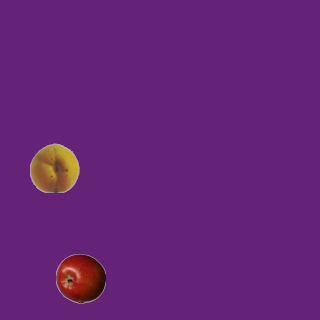Apple Braeburn: (55, 253, 105, 303)
Peach 2: (29, 142, 79, 192)
